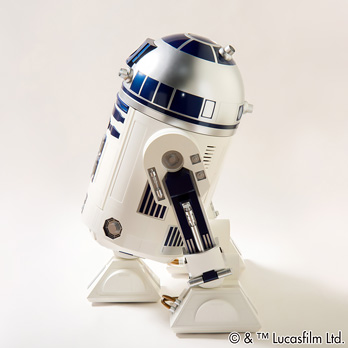r2d2: (81, 31, 262, 335)
